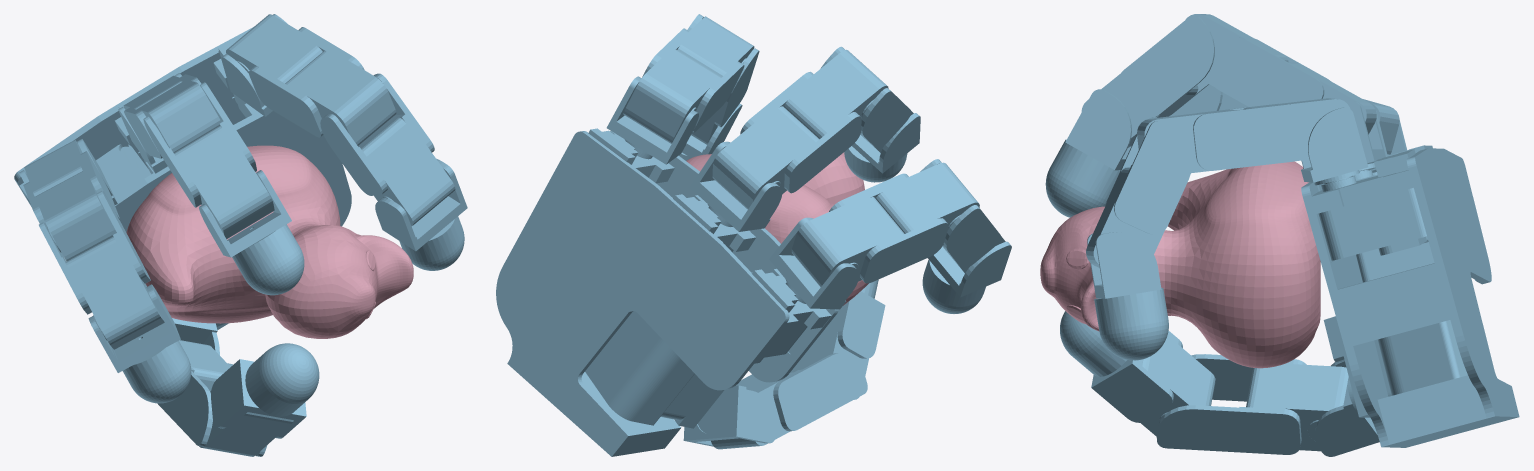
3 views of the same model, side by side, from view 1: azimuth 30°, elevation 25°; view 2: azimuth 150°, elevation 25°; view 3: azimuth 270°, elevation 25° (orthographic). The views are drawn at different scales.
Visible parts, largest first — view 1: world, rubber_duck.stl; view 2: world, rubber_duck.stl; view 3: world, rubber_duck.stl.
Part boxes in pixels (x1=…): world: x1=14, y1=14, x2=467, y2=456; rubber_duck.stl: x1=126, y1=145, x2=413, y2=338; world: x1=496, y1=14, x2=1011, y2=456; rubber_duck.stl: x1=686, y1=152, x2=868, y2=305; world: x1=1045, y1=14, x2=1519, y2=456; rubber_duck.stl: x1=1040, y1=161, x2=1320, y2=368.
Bounding box in the file's own units: 0.165 × 0.1552 × 0.1639.
